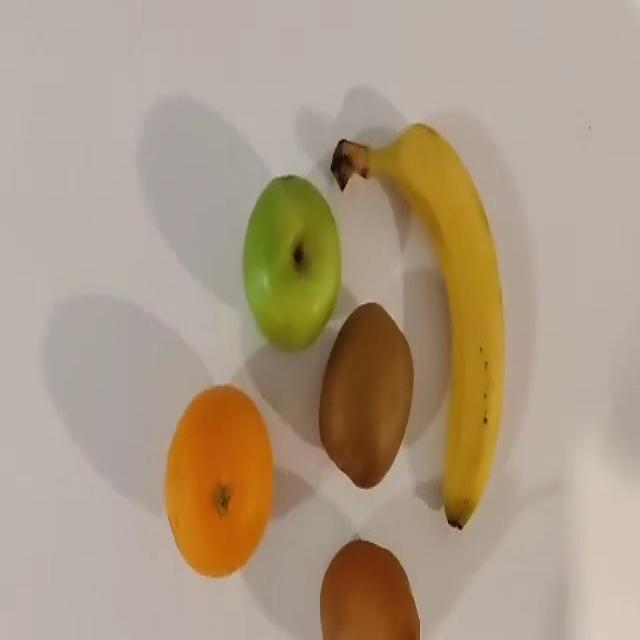Apple: (242, 173, 341, 352)
Banana: (329, 121, 505, 530)
Orange: (163, 384, 274, 578)
